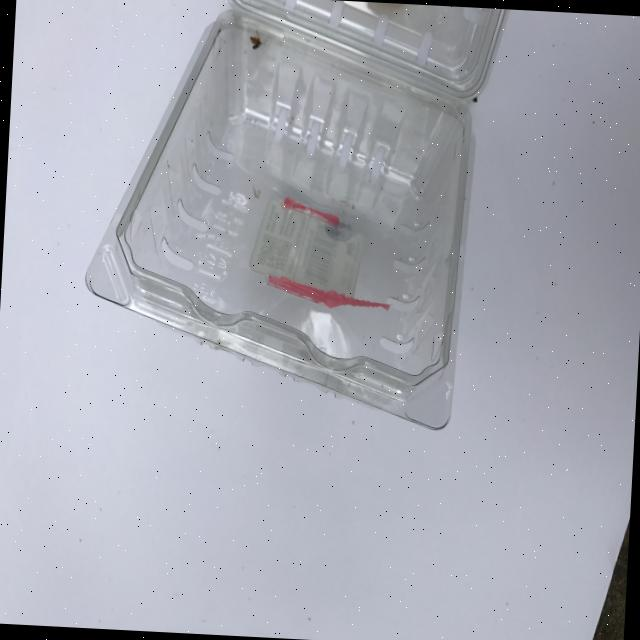plastic: (78, 0, 490, 432)
